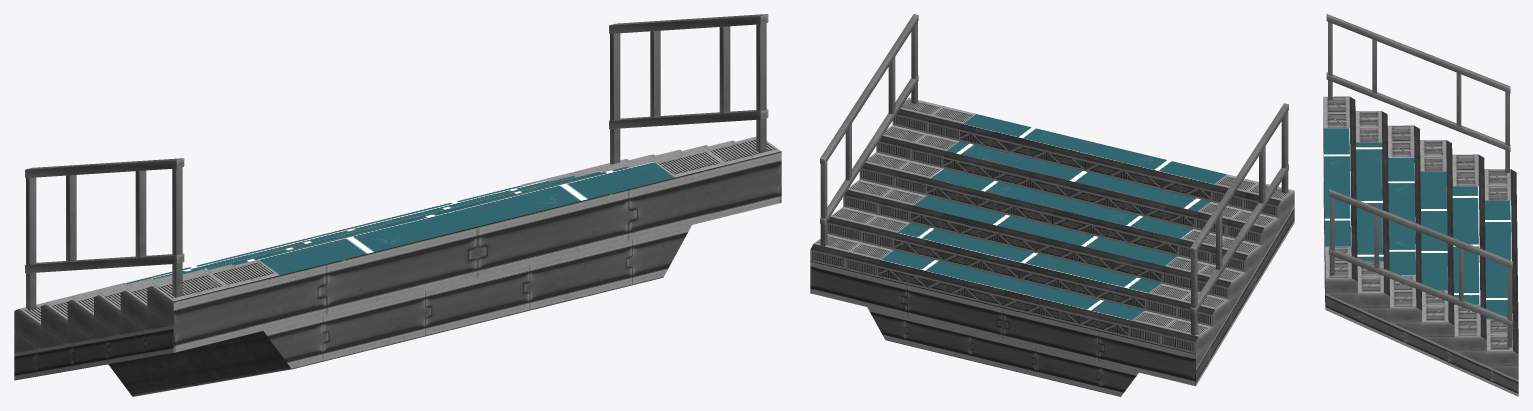
File: ARC1110007.fbx
3 views of the same model, side by side, from view 1: azimuth 30°, elevation 25°; view 2: azimuth 150°, elevation 25°; view 3: azimuth 270°, elevation 25° (orthographic). The views are drawn at different scales.
Parts seen in each view (by area): view 1: smARC1110007; view 2: smARC1110007; view 3: smARC1110007.
Part boxes in pixels (x1=…): smARC1110007: x1=14, y1=14, x2=781, y2=396; smARC1110007: x1=810, y1=14, x2=1294, y2=396; smARC1110007: x1=1323, y1=14, x2=1518, y2=396.
Size of the model in its own units: 376 by 222 by 170.
1 material, 1 textured.
